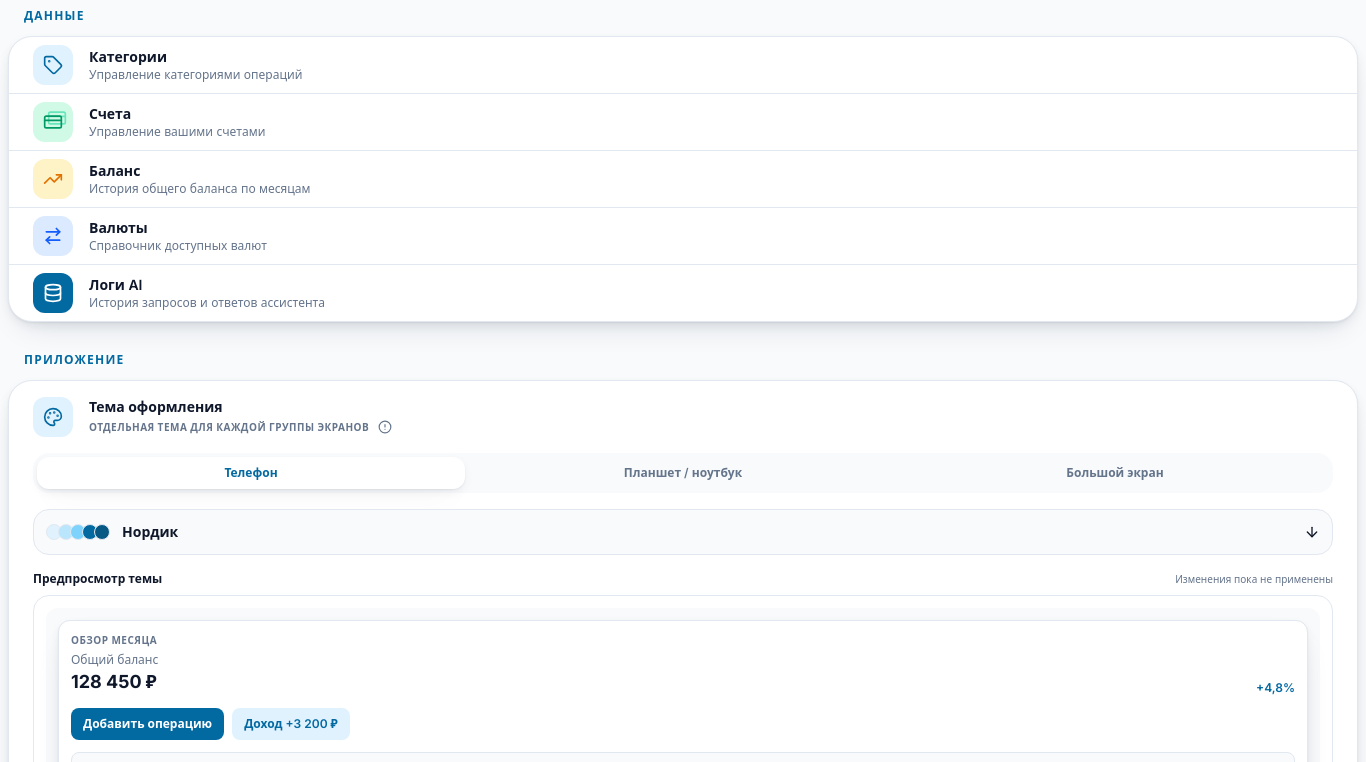
Test case: Settings theme controls › shows device breakpoint details from the help tooltip
Click the button with test id "theme-device-breakpoint-help" at (385, 427), box [375,417,395,437]
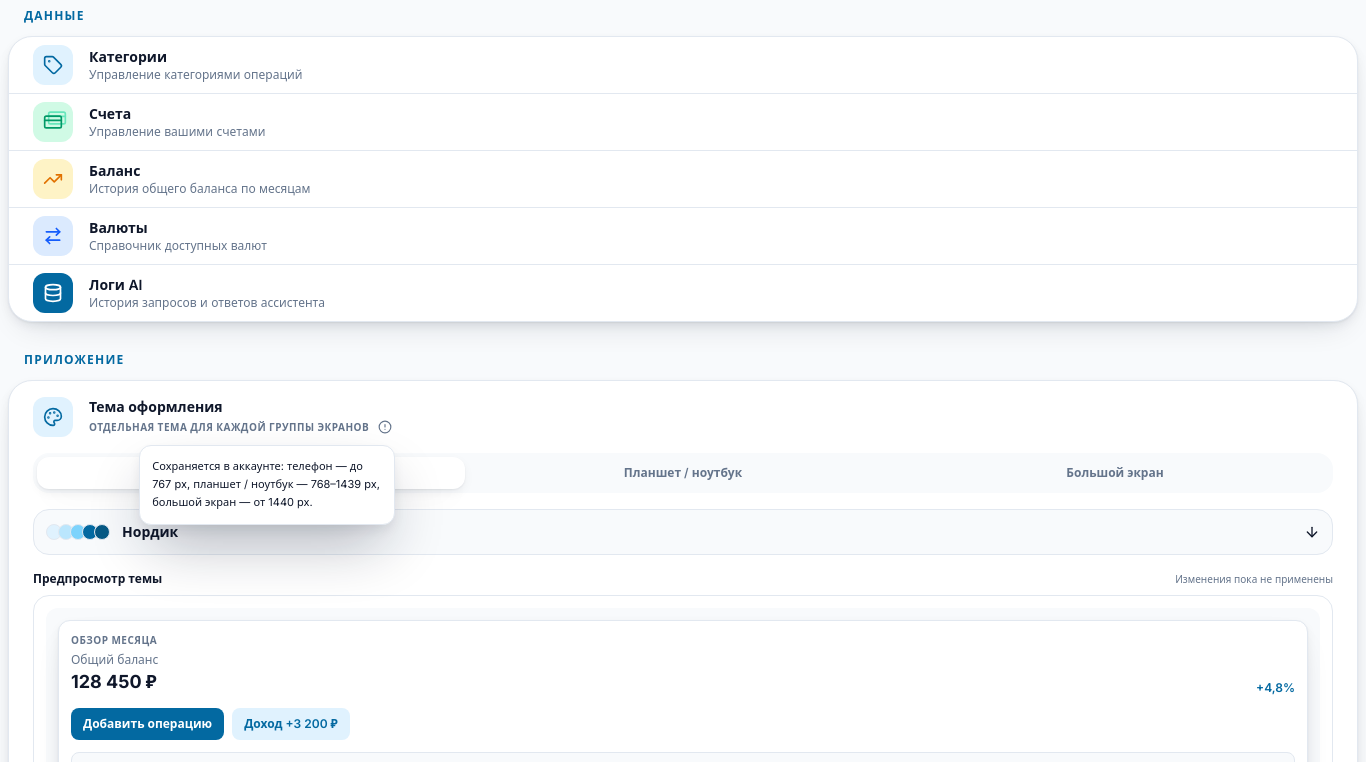
Result: the tooltip with test id "theme-device-breakpoint-tooltip" shows "Сохраняется в аккаунте: телефон — до 767 px, планшет / ноутбук — 768–1439 px, большой экран — от 1440 px." at [152,459,380,509]
